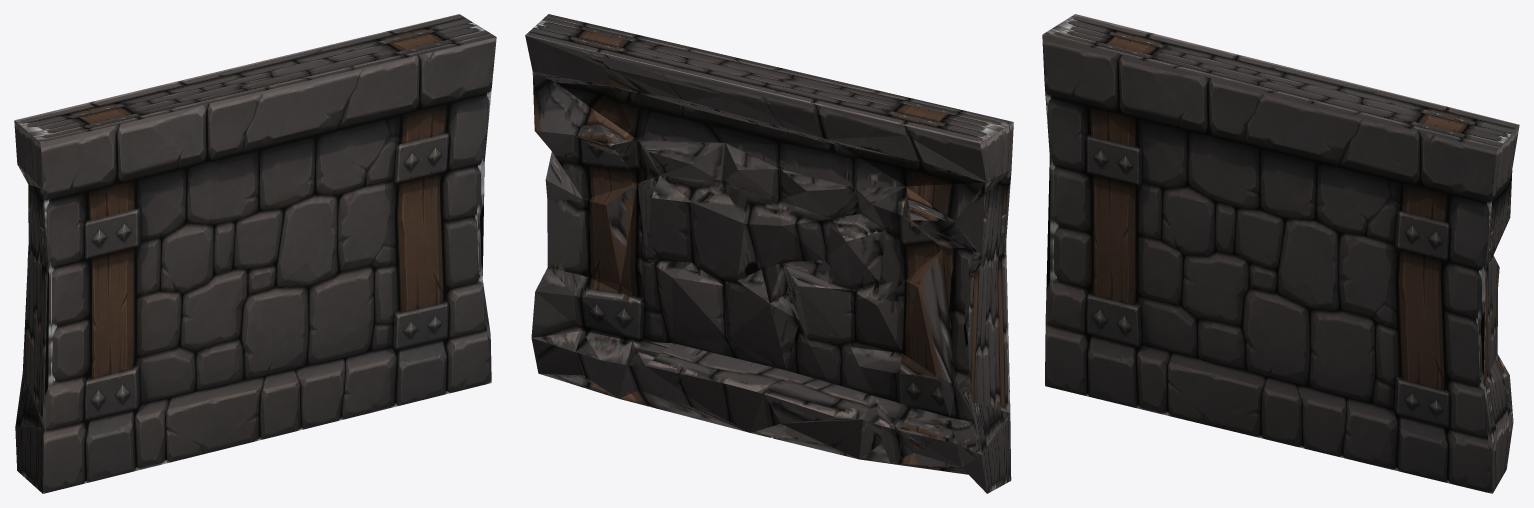
File: SM_Dungeon_Wall_A_LOD2.fbx
3 views of the same model, side by side, from view 1: azimuth 30°, elevation 25°; view 2: azimuth 150°, elevation 25°; view 3: azimuth 330°, elevation 25° (orthographic). The views are drawn at different scales.
Visible parts, largest first — view 1: SM_Dungeon_Wall_A_LOD2; view 2: SM_Dungeon_Wall_A_LOD2; view 3: SM_Dungeon_Wall_A_LOD2.
Boxes of the visible parts, x1,y1,x2,y2 form: SM_Dungeon_Wall_A_LOD2: (14, 14, 496, 493); SM_Dungeon_Wall_A_LOD2: (525, 14, 1013, 493); SM_Dungeon_Wall_A_LOD2: (1042, 14, 1519, 493).
Bounding box in the file's own units: 4.02 × 2.96 × 0.4612.
